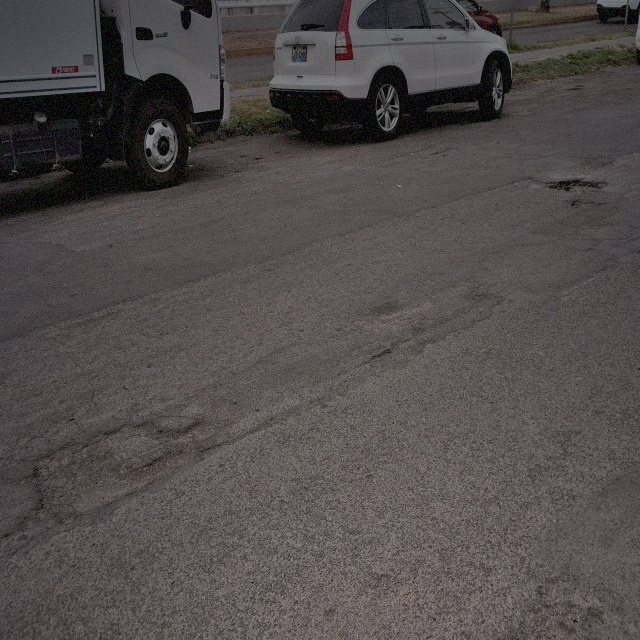pothole: (30, 403, 212, 545), (547, 171, 608, 199)
